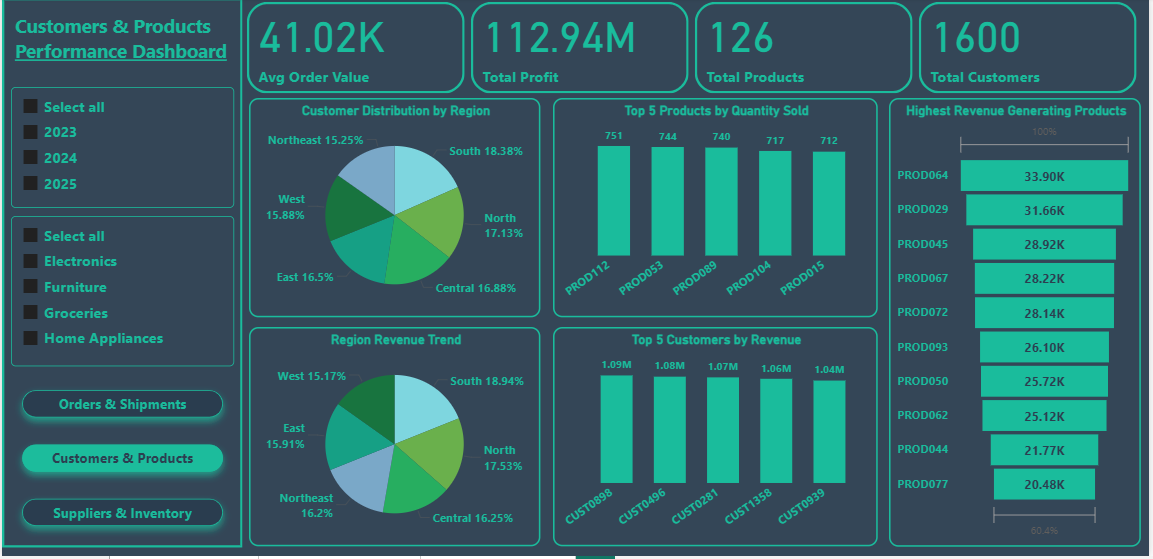

Layout of this report page (visuals, bound fields, positions):
{"tool":"powerbi","page":{"name":"Customers & Products","canvas":[1480,720],"ordinal":1},"visuals":[{"type":"shape","box":[0,0,310.4,709.1],"z":0},{"type":"cardVisual","fields":{"Data":["Table_measure.avg_order_value","Table_measure.total_profit","Table_measure.total_products","Table_measure.total_customers"]},"box":[310.4,0,1159.4,129],"z":1000},{"type":"textbox","box":[11.3,14.2,333.1,82.2],"z":2000},{"type":"slicer","fields":{"Values":["Calender_table.year"]},"box":[11.8,114.8,288.3,155.9],"z":3000},{"type":"pieChart","title":"Customer Distribution by Region","fields":{"Category":["supply_chain customers.region"],"Y":["CountNonNull(supply_chain customers.customer_id)"]},"box":[318.3,128.9,375.6,283.3],"z":4000},{"type":"pieChart","title":"Region Revenue Trend","fields":{"Y":["Sum(supply_chain orders.total_revenue)"],"Category":["supply_chain customers.region"]},"box":[318.3,424.9,375.6,283.3],"z":5000},{"type":"slicer","fields":{"Values":["supply_chain products.category"]},"box":[11.8,281,288.3,194.2],"z":6000},{"type":"pageNavigator","box":[11.1,491.7,288,205.3],"z":7000},{"type":"clusteredColumnChart","title":"Top 5 Products by Quantity Sold","fields":{"Category":["supply_chain orders.product_id"],"Y":["Sum(supply_chain orders.quantity)"]},"box":[711.4,128.9,418.5,283.3],"z":8000},{"type":"clusteredColumnChart","title":"Top 5 Customers by Revenue","fields":{"Category":["supply_chain orders.customer_id"],"Y":["Sum(supply_chain orders.total_revenue)"]},"box":[711.4,424.9,418.5,283.3],"z":9000},{"type":"funnel","title":"Highest Revenue Generating Products","fields":{"Category":["supply_chain products.product_id"],"Y":["Sum(supply_chain products.selling_price)"]},"box":[1144.2,128.9,324.6,579.3],"z":10000}]}

Visuals, with their boxes in screenshot pixels (x1, y1, x2, y2), scaled from the page's 1480x720 canvas onto the 1153x559 screenshot:
shape: <bbox>0, 0, 242, 551</bbox>
cardVisual - Table_measure.avg_order_value x Table_measure.total_profit: <bbox>242, 0, 1145, 100</bbox>
textbox: <bbox>9, 11, 268, 75</bbox>
slicer - Calender_table.year: <bbox>9, 89, 234, 210</bbox>
"Customer Distribution by Region" pieChart: <bbox>248, 100, 541, 320</bbox>
"Region Revenue Trend" pieChart: <bbox>248, 330, 541, 550</bbox>
slicer - supply_chain products.category: <bbox>9, 218, 234, 369</bbox>
pageNavigator: <bbox>9, 382, 233, 541</bbox>
"Top 5 Products by Quantity Sold" clusteredColumnChart: <bbox>554, 100, 880, 320</bbox>
"Top 5 Customers by Revenue" clusteredColumnChart: <bbox>554, 330, 880, 550</bbox>
"Highest Revenue Generating Products" funnel: <bbox>891, 100, 1144, 550</bbox>
